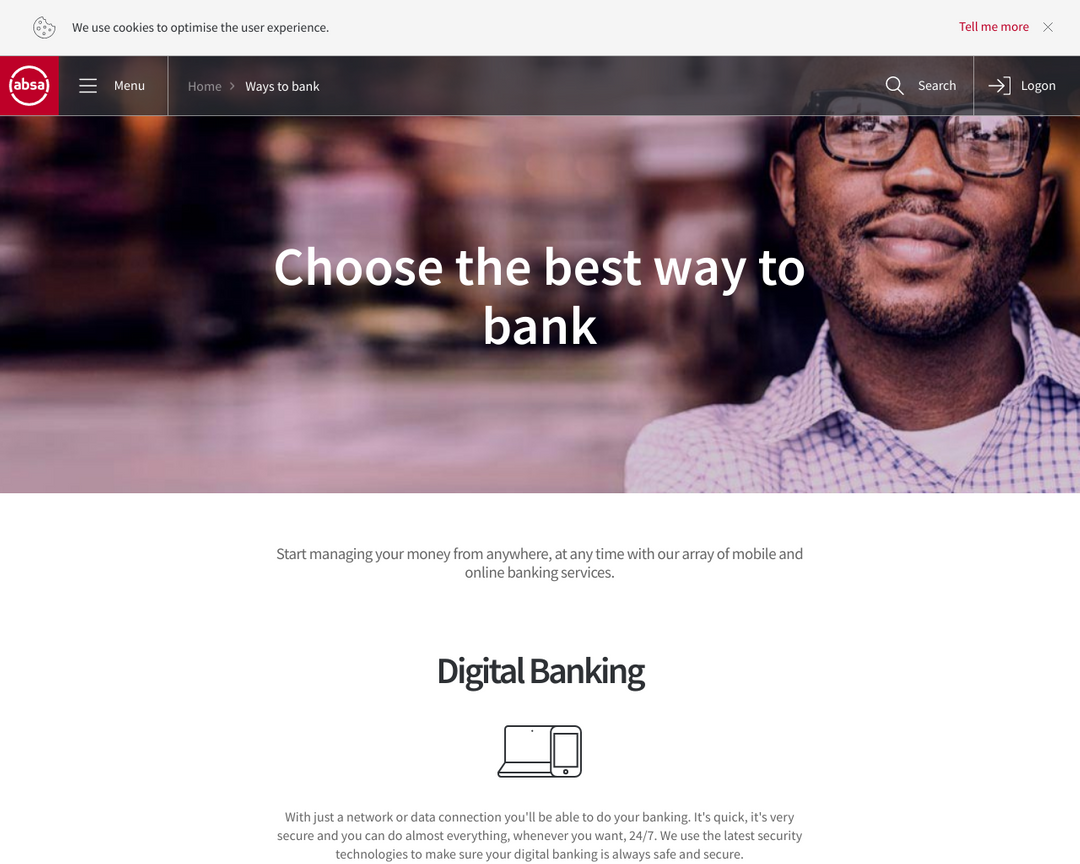ABSA: (9, 65, 52, 108)
